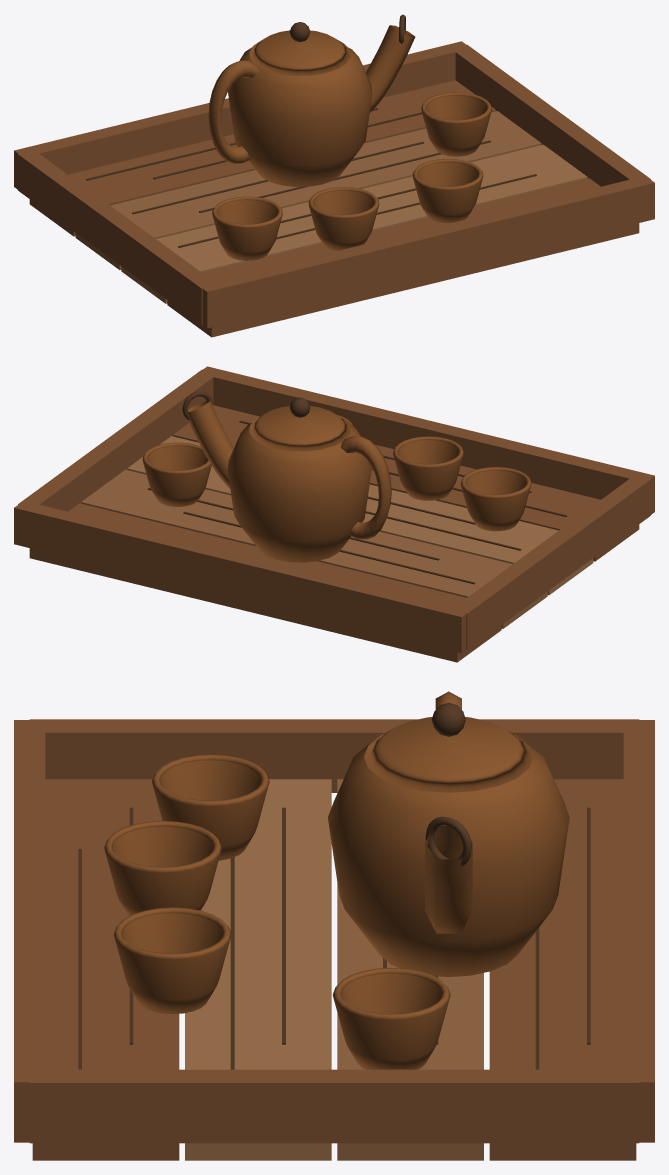
The model's file is LV_BO_AM_TRA_01.glb.
3 renders of one model, top to bottom at view 1: azimuth 30°, elevation 25°; view 2: azimuth 150°, elevation 25°; view 3: azimuth 270°, elevation 25°, orthographic. The views are drawn at different scales.
Parts seen in each view (by area): view 1: LV_BO_AM_TRA_01-surface-825331, LV_BO_AM_TRA_01-surface-855127, LV_BO_AM_TRA_01-surface-936540, LV_BO_AM_TRA_01-surface-9d7048, LV_BO_AM_TRA_01-surface-50351f; view 2: LV_BO_AM_TRA_01-surface-825331, LV_BO_AM_TRA_01-surface-855127, LV_BO_AM_TRA_01-surface-936540, LV_BO_AM_TRA_01-surface-9d7048, LV_BO_AM_TRA_01-surface-50351f; view 3: LV_BO_AM_TRA_01-surface-825331, LV_BO_AM_TRA_01-surface-855127, LV_BO_AM_TRA_01-surface-9d7048, LV_BO_AM_TRA_01-surface-936540, LV_BO_AM_TRA_01-surface-50351f.
Boxes of the visible parts, x1,y1,x2,y2 form: LV_BO_AM_TRA_01-surface-825331: [14, 41, 654, 337]; LV_BO_AM_TRA_01-surface-855127: [208, 25, 491, 260]; LV_BO_AM_TRA_01-surface-936540: [75, 111, 541, 269]; LV_BO_AM_TRA_01-surface-9d7048: [121, 144, 587, 303]; LV_BO_AM_TRA_01-surface-50351f: [86, 14, 536, 247]; LV_BO_AM_TRA_01-surface-825331: [14, 366, 654, 662]; LV_BO_AM_TRA_01-surface-855127: [142, 400, 531, 562]; LV_BO_AM_TRA_01-surface-936540: [81, 469, 547, 628]; LV_BO_AM_TRA_01-surface-9d7048: [127, 436, 593, 595]; LV_BO_AM_TRA_01-surface-50351f: [147, 391, 567, 584]; LV_BO_AM_TRA_01-surface-825331: [14, 719, 654, 1160]; LV_BO_AM_TRA_01-surface-855127: [104, 691, 569, 1069]; LV_BO_AM_TRA_01-surface-9d7048: [185, 779, 331, 1160]; LV_BO_AM_TRA_01-surface-936540: [337, 779, 483, 1160]; LV_BO_AM_TRA_01-surface-50351f: [78, 703, 590, 1069].
Size of the model in its own units: 0.903 by 0.328 by 0.673.
